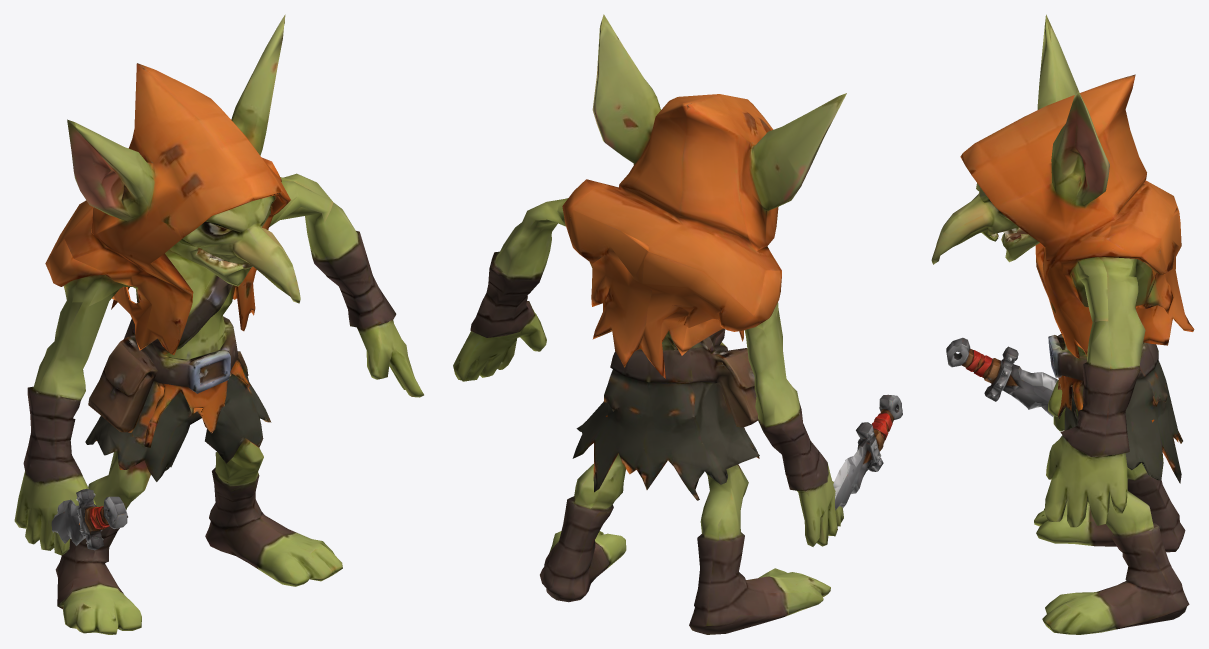
The model's file is runner.glb.
3 renders of one model, left to right at view 1: azimuth 30°, elevation 25°; view 2: azimuth 150°, elevation 25°; view 3: azimuth 270°, elevation 25°, orthographic. The views are drawn at different scales.
Visible parts, largest first — view 1: runner; view 2: runner; view 3: runner.
Boxes of the visible parts, x1,y1,x2,y2 form: runner: [14, 14, 423, 634]; runner: [453, 14, 902, 634]; runner: [931, 14, 1194, 634].
Size of the model in its own units: 1.02 by 1.44 by 0.6487.
Materials: 2 (2 with a texture image).
